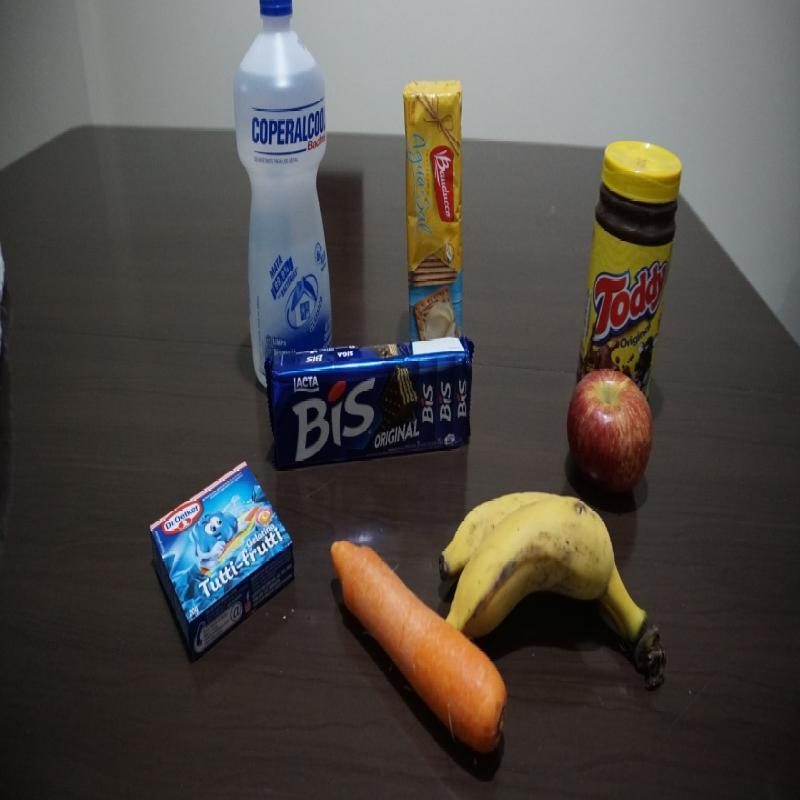Alcohol Bottle: (231, 0, 334, 342)
Apple: (573, 370, 653, 485)
Banana: (450, 492, 670, 696)
Carrot: (326, 533, 438, 752)
Chocolate Powder: (587, 143, 676, 360)
Cracker: (405, 75, 462, 332)
Gelatine: (140, 459, 289, 664)
